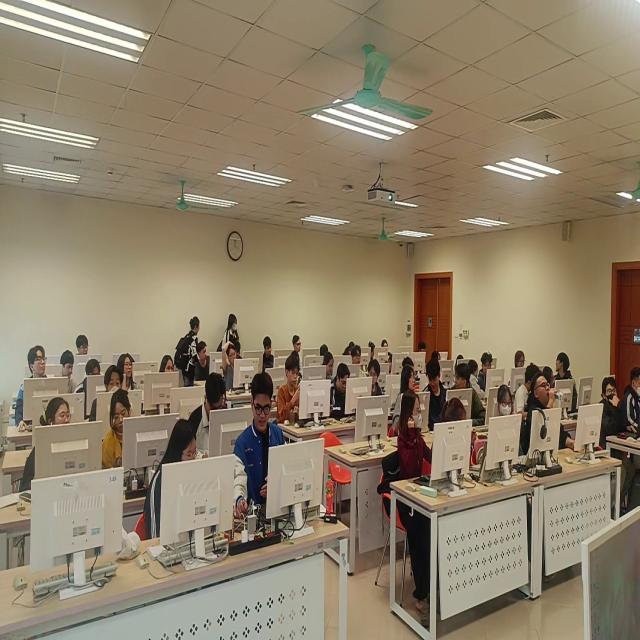raise_head: (21, 398, 76, 495), (525, 373, 580, 466), (16, 345, 56, 434), (597, 377, 626, 457), (93, 368, 130, 425), (498, 385, 525, 457), (222, 343, 254, 396), (118, 355, 143, 395), (157, 356, 180, 395), (262, 336, 281, 372), (292, 337, 309, 365), (77, 335, 92, 363), (514, 351, 528, 379), (353, 347, 365, 377)
stand: (175, 317, 200, 389), (221, 313, 240, 353)
using_computer: (236, 378, 289, 522), (397, 393, 442, 531), (102, 393, 146, 485), (188, 373, 232, 464), (444, 399, 494, 477), (328, 368, 361, 427), (75, 360, 102, 408), (622, 367, 640, 437), (196, 342, 221, 385), (322, 353, 339, 382), (369, 342, 382, 362)
using_phone: (278, 357, 310, 432)
